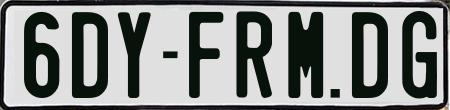6: (22, 9, 61, 95)
D: (71, 10, 108, 101), (350, 9, 386, 95)
F: (186, 10, 225, 102)
G: (400, 9, 433, 98)
M: (287, 12, 322, 102)
R: (234, 10, 270, 98)
Y: (115, 10, 152, 100)
